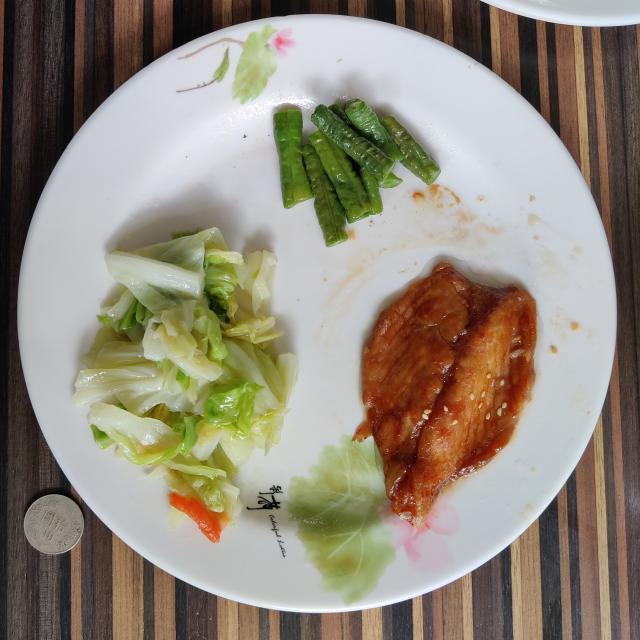Kabayaki sea bream fillet: (352, 262, 536, 526)
cabbage: (72, 228, 298, 542)
coin: (24, 494, 84, 554)
